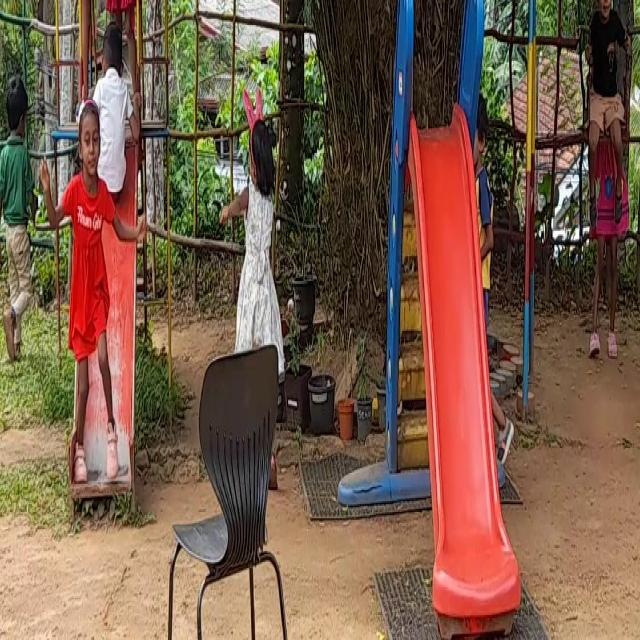child: (55, 72, 128, 495), (214, 82, 286, 350), (0, 39, 39, 365), (584, 0, 628, 200)
